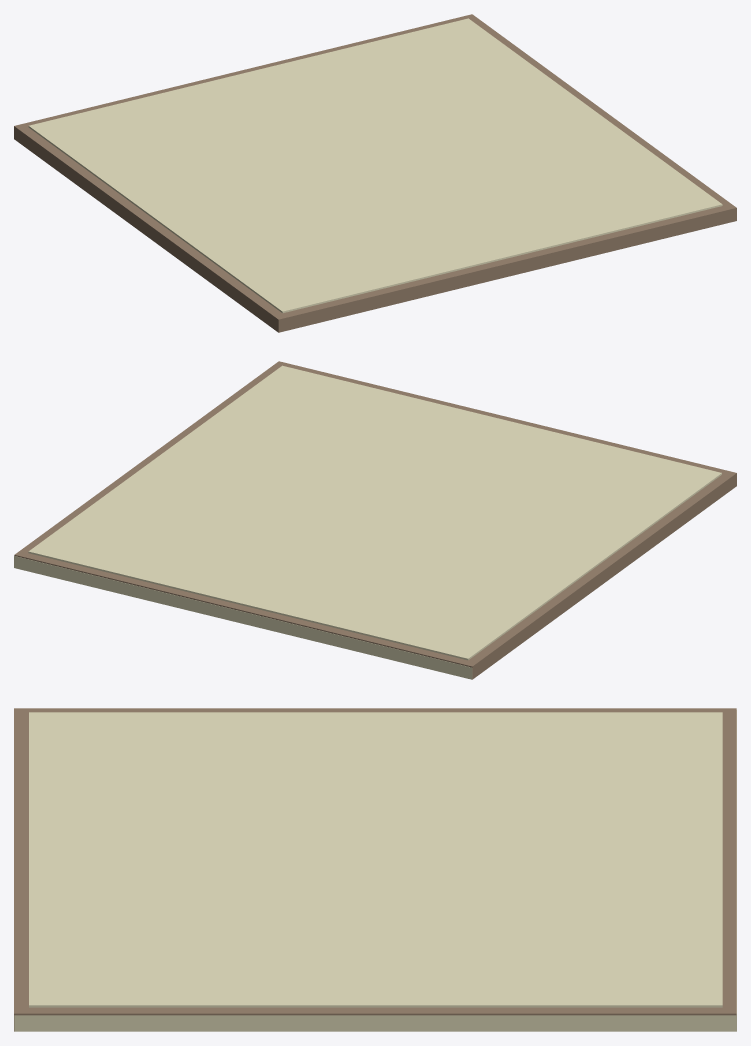
The model's file is martial-arts-dojo-and-fight-stages-dojo-mat-tile-c007736e__18031.glb.
The picture shows the model from 3 angles, top to bottom: view 1: azimuth 30°, elevation 25°; view 2: azimuth 150°, elevation 25°; view 3: azimuth 270°, elevation 25°; orthographic projection. The views are drawn at different scales.
Visible parts, largest first — view 1: dojo-mat-tile; view 2: dojo-mat-tile; view 3: dojo-mat-tile.
Part boxes in pixels (x1,y1,x2,y2): dojo-mat-tile: [14, 14, 736, 332]; dojo-mat-tile: [14, 361, 736, 679]; dojo-mat-tile: [14, 708, 736, 1031].
Size of the model in its own units: 2 by 0.062 by 2.
